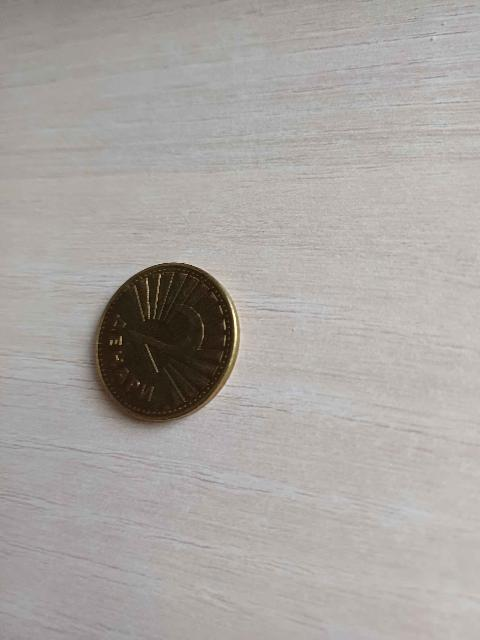2_coin: (94, 252, 239, 415)
